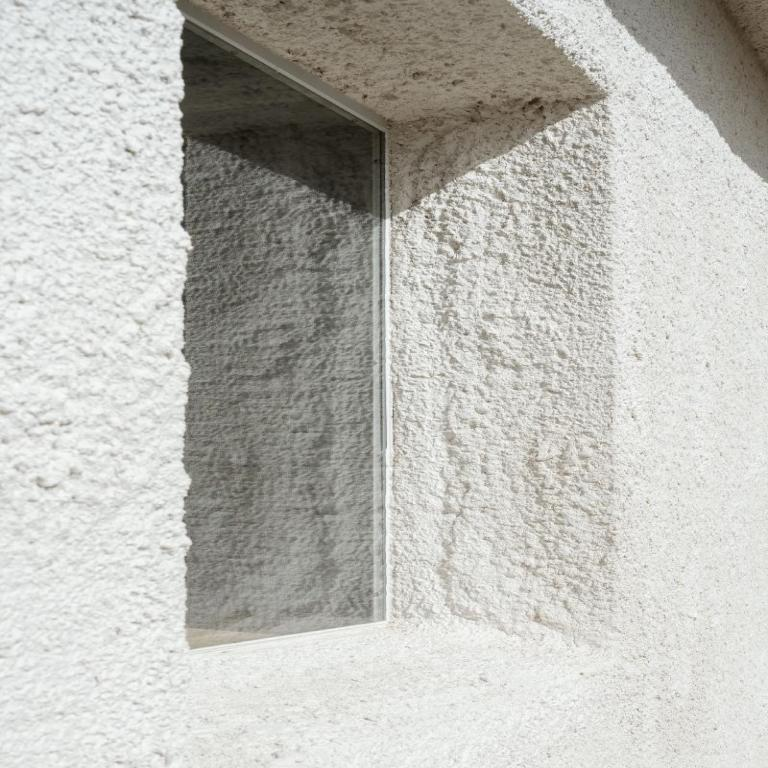white-walls: (422, 160, 722, 657)
